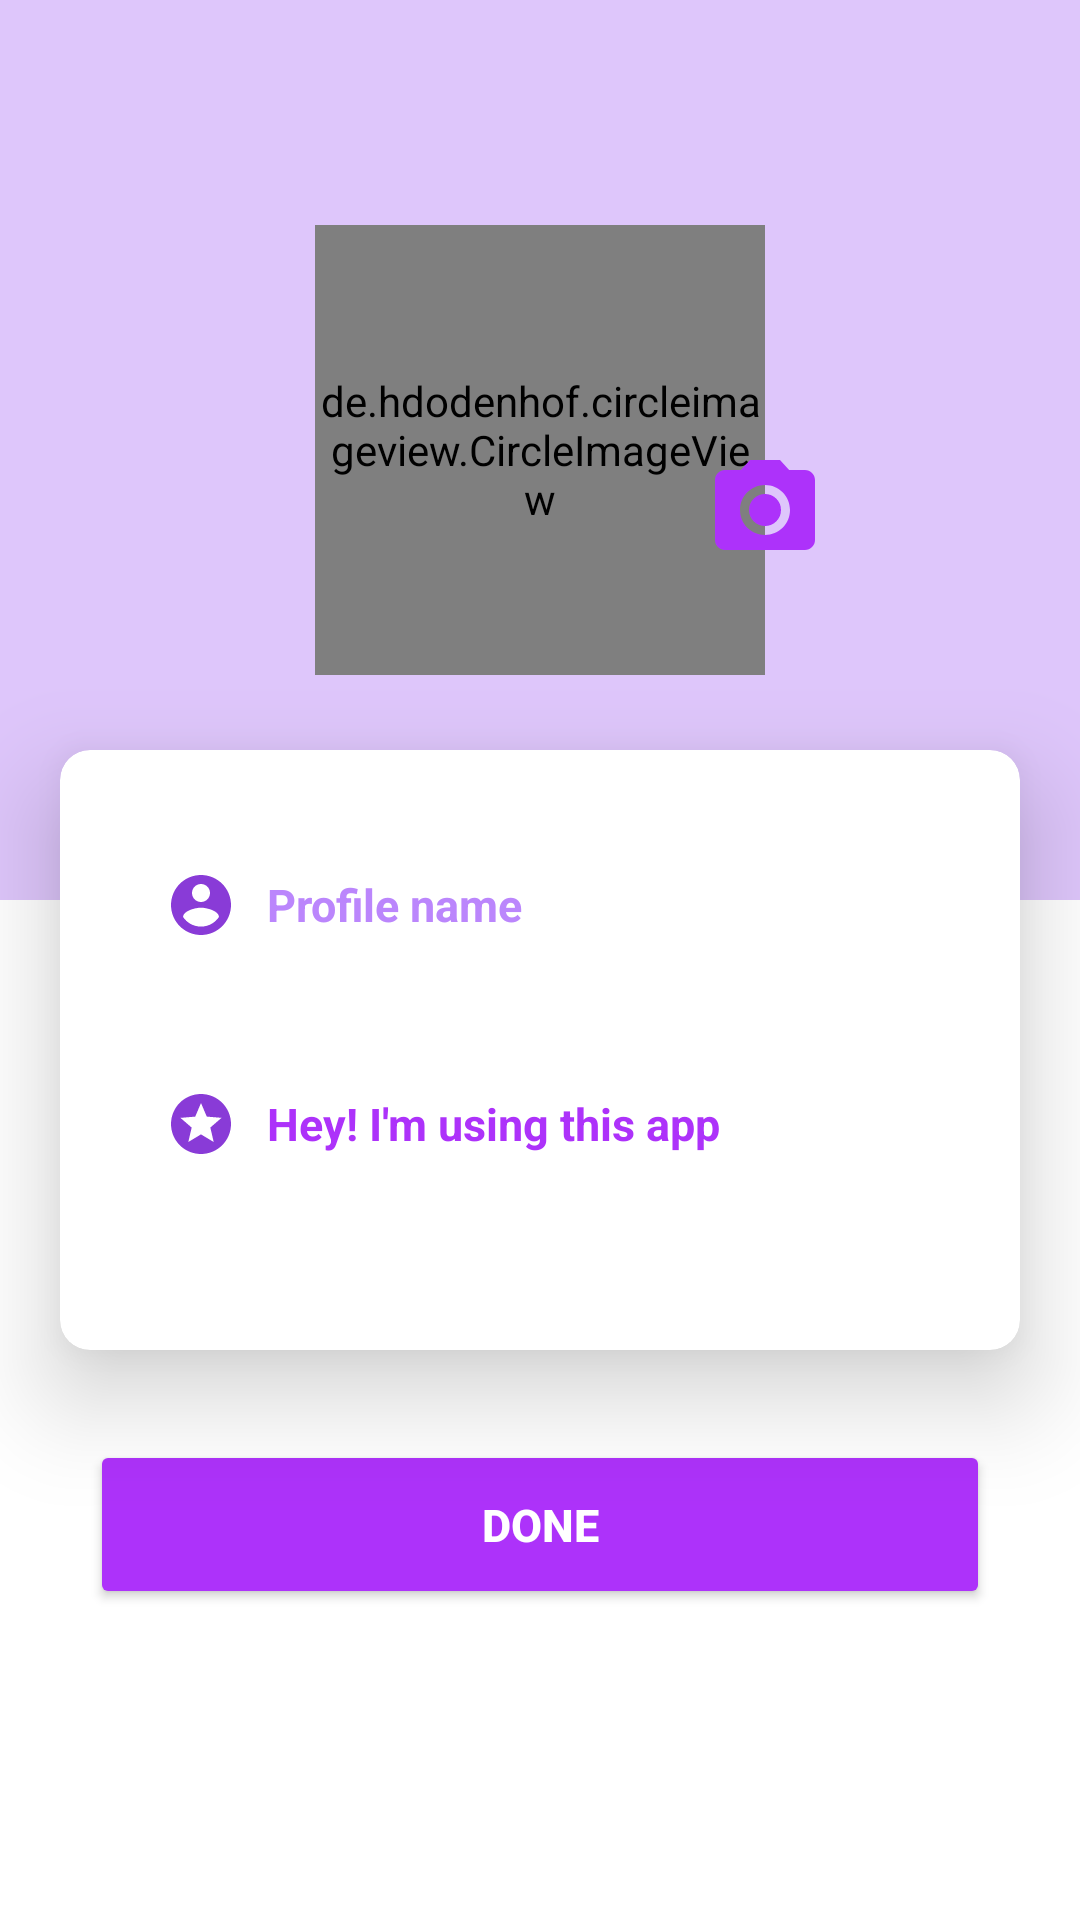

Icons on this 1080w x 1920h Android screen, each with the point to tap as point (x, y):
camera: point (765, 510)
